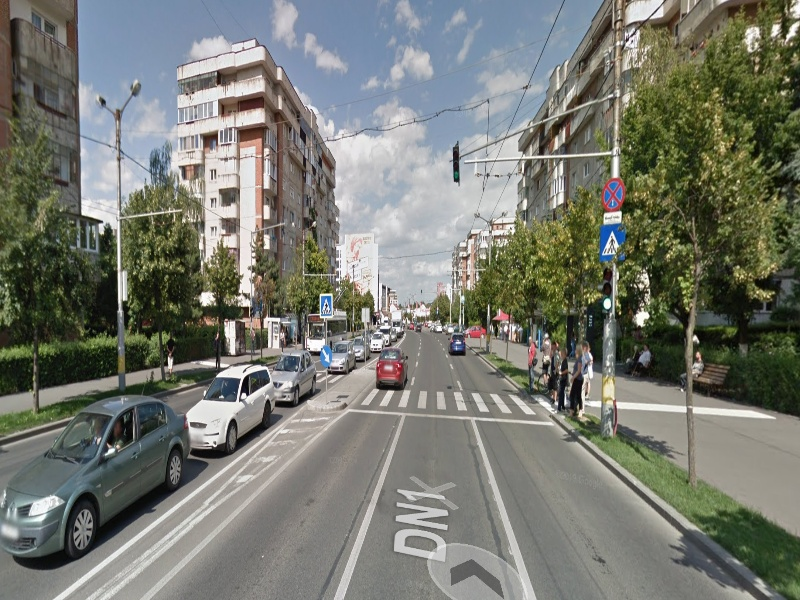crosswalk: (351, 385, 555, 429)
crosswalk_sign: (598, 224, 626, 260), (319, 293, 334, 319)
pedestrian: (571, 343, 585, 423), (523, 334, 540, 393), (164, 332, 175, 374)
semaphore: (597, 266, 615, 321), (450, 138, 464, 190)
